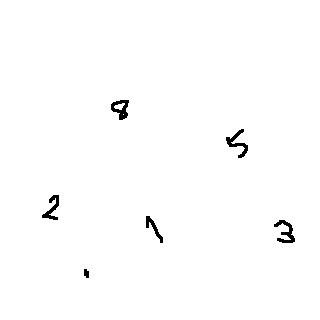.: (79, 261, 93, 287)
1: (135, 212, 173, 256)
2: (42, 195, 64, 230)
3: (267, 215, 308, 256)
5: (218, 126, 263, 168)
8: (107, 92, 145, 129)
